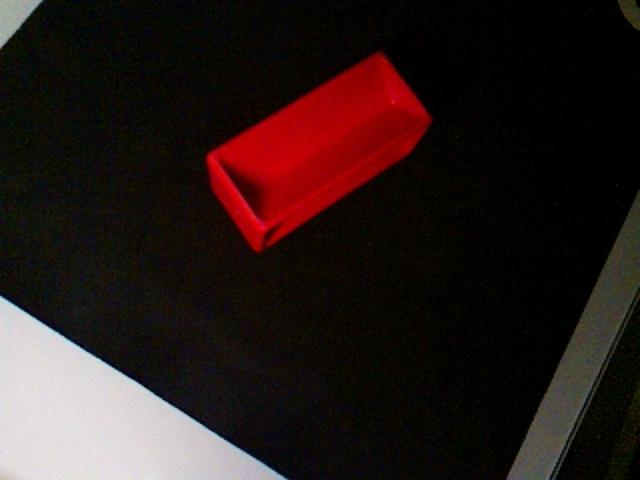red: (204, 49, 434, 253)
